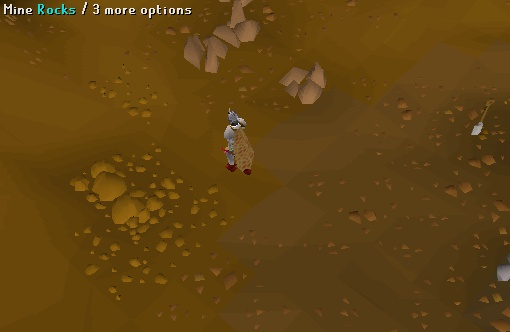copper: (176, 25, 234, 82), (277, 55, 333, 112)
